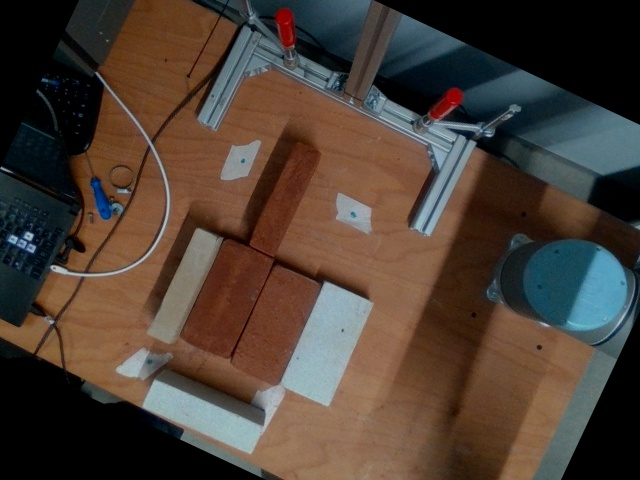brick: (278, 281, 371, 407), (179, 238, 272, 357), (232, 267, 318, 384)
brick-side: (142, 380, 260, 452), (145, 227, 216, 343), (248, 144, 318, 256)
